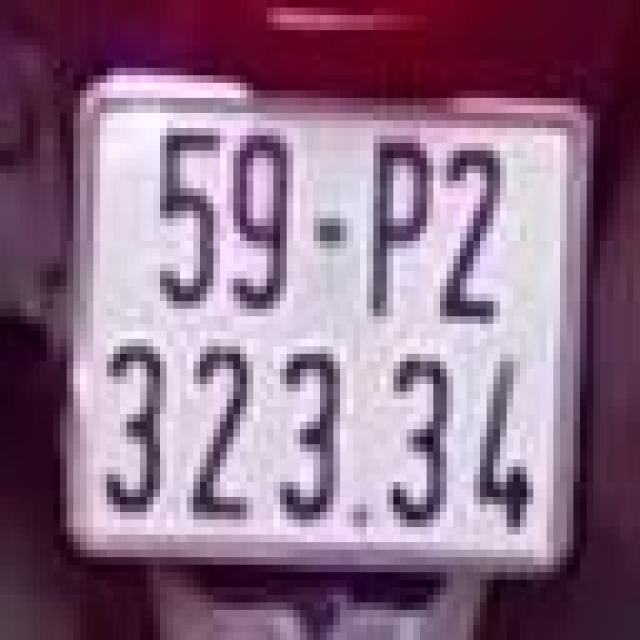2: (434, 124, 514, 328), (183, 335, 257, 538)
3: (90, 331, 177, 527), (266, 331, 346, 527), (376, 342, 456, 538)
4: (467, 342, 540, 554)
5: (150, 117, 223, 320)
9: (230, 117, 297, 335)
P: (363, 120, 437, 339)
